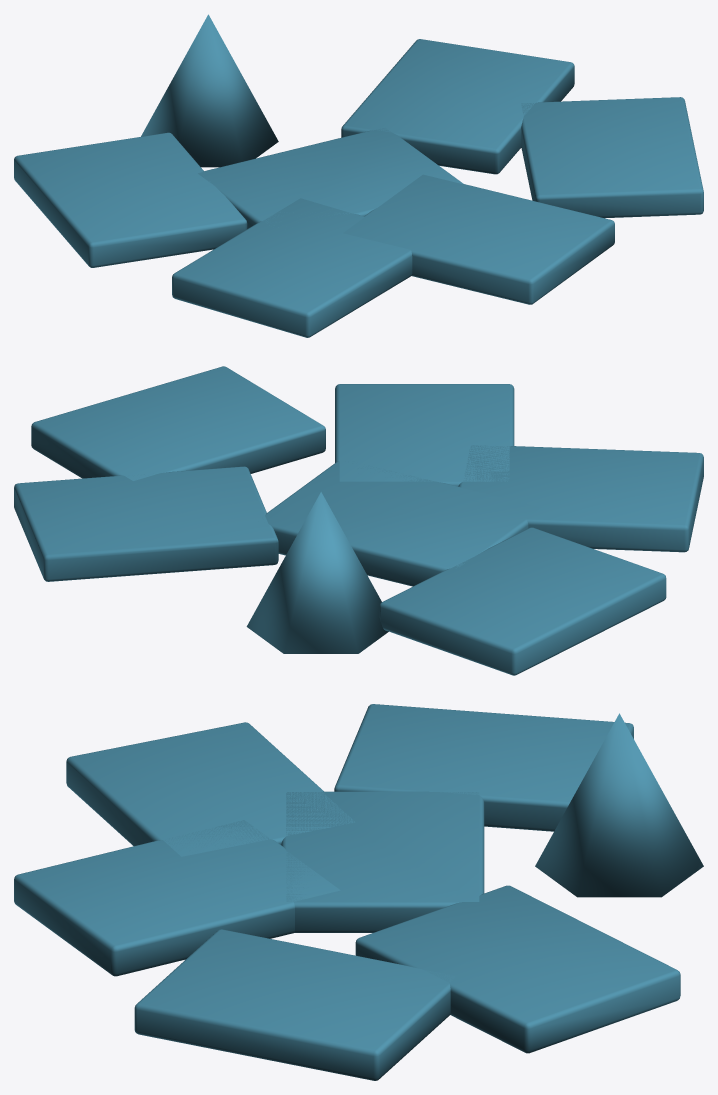
The model's file is glass-shards.obj.
The picture shows the model from 3 angles, top to bottom: view 1: azimuth 30°, elevation 25°; view 2: azimuth 150°, elevation 25°; view 3: azimuth 270°, elevation 25°; orthographic projection. The views are drawn at different scales.
Parts seen in each view (by area): view 1: glass-shards; view 2: glass-shards; view 3: glass-shards.
Part boxes in pixels (x1,y1,x2,y2): glass-shards: (14,14,703,337); glass-shards: (14,366,703,675); glass-shards: (14,704,703,1080).
Size of the model in its own units: 0.4897 by 0.1 by 0.4082.
